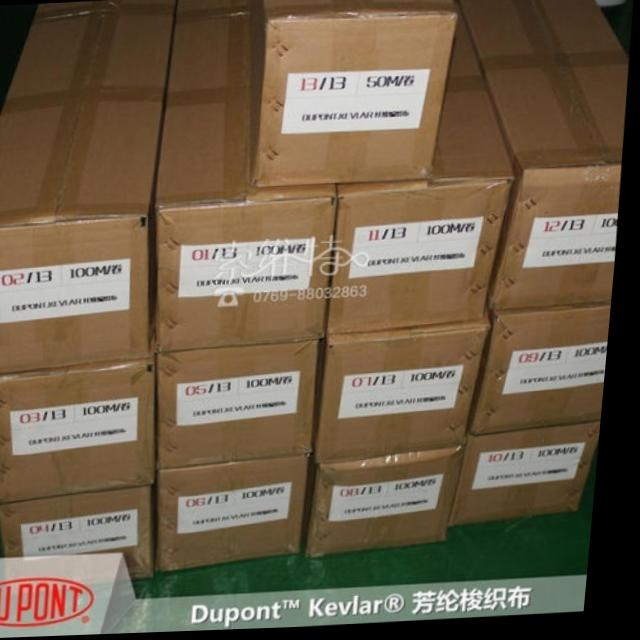box: (0, 0, 173, 375), (159, 0, 340, 355), (332, 0, 518, 336), (457, 0, 631, 316), (257, 0, 458, 188), (321, 322, 497, 467), (0, 359, 165, 503), (163, 341, 325, 471), (477, 311, 617, 439), (315, 449, 476, 560), (165, 458, 317, 575), (459, 425, 609, 530), (4, 487, 162, 582)
